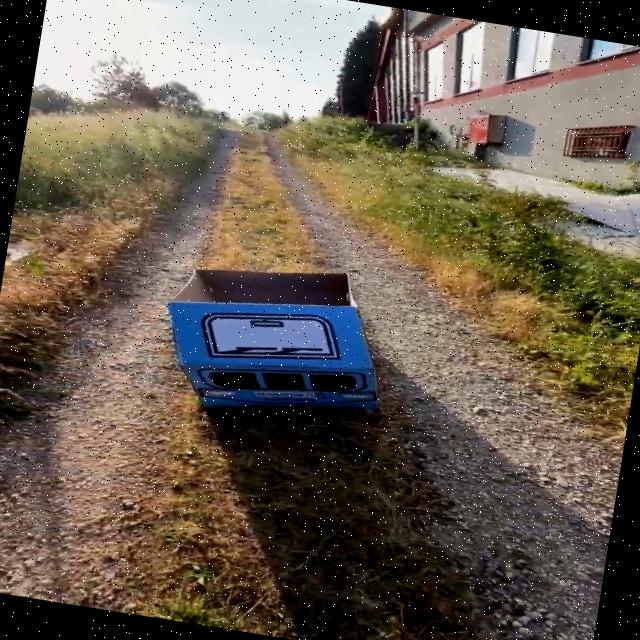blue_car: (101, 216, 467, 478)
